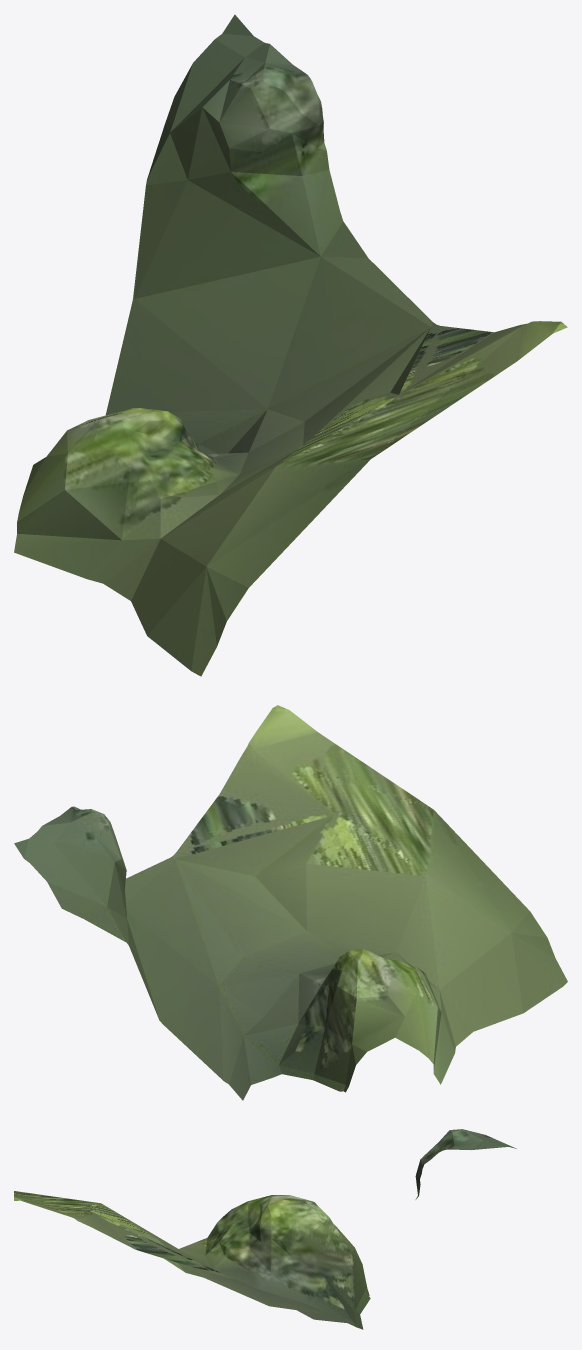
3 views of the same model, one above another, from view 1: azimuth 30°, elevation 25°; view 2: azimuth 150°, elevation 25°; view 3: azimuth 270°, elevation 25° (orthographic). The views are drawn at different scales.
Size of the model in its own units: 17.2 by 14.25 by 26.11.
2 materials, 2 textured.
